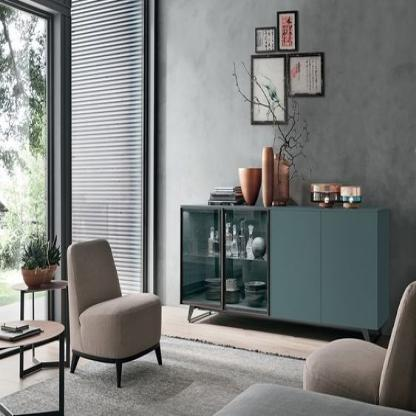Cupboard: (180, 203, 395, 341)
